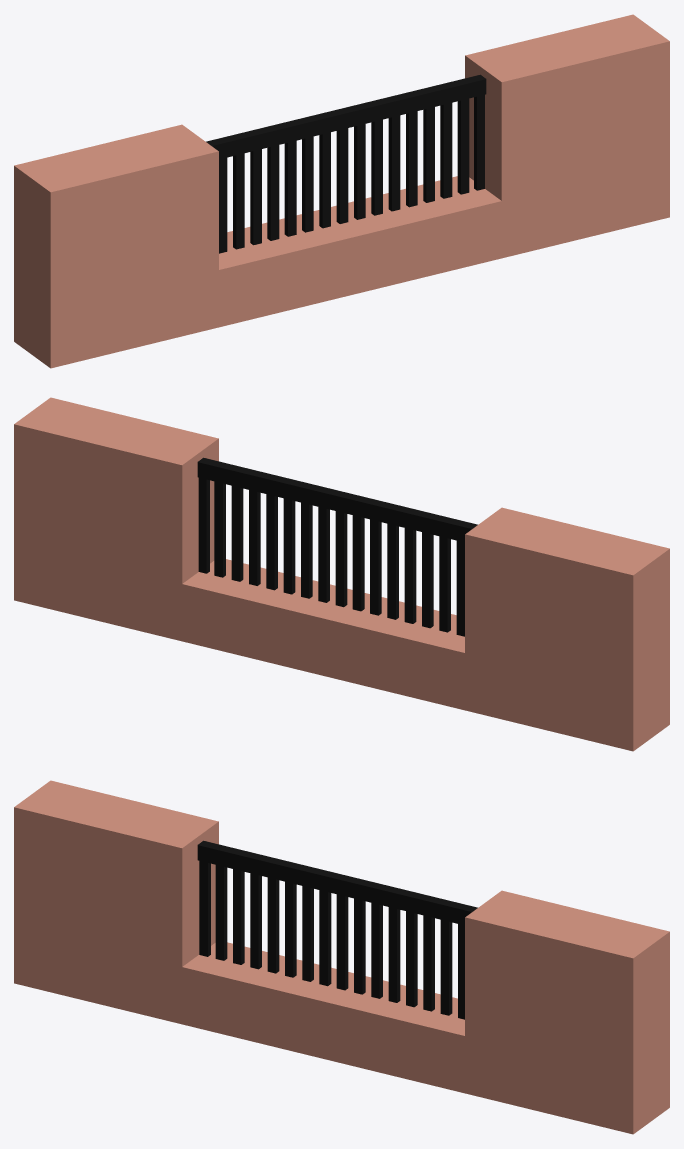
Rendered from HugeFence_1.FBX.
3 renders of one model, top to bottom at view 1: azimuth 30°, elevation 25°; view 2: azimuth 150°, elevation 25°; view 3: azimuth 330°, elevation 25°, orthographic.
Visible parts, largest first — view 1: hugeFence1; view 2: hugeFence1; view 3: hugeFence1.
Boxes of the visible parts, box(x1,y1,x2,y2) form: hugeFence1: box(14, 14, 669, 368); hugeFence1: box(14, 397, 669, 751); hugeFence1: box(14, 780, 669, 1134).
Bounding box in the file's own units: 50.71 × 13.78 × 5.2.
